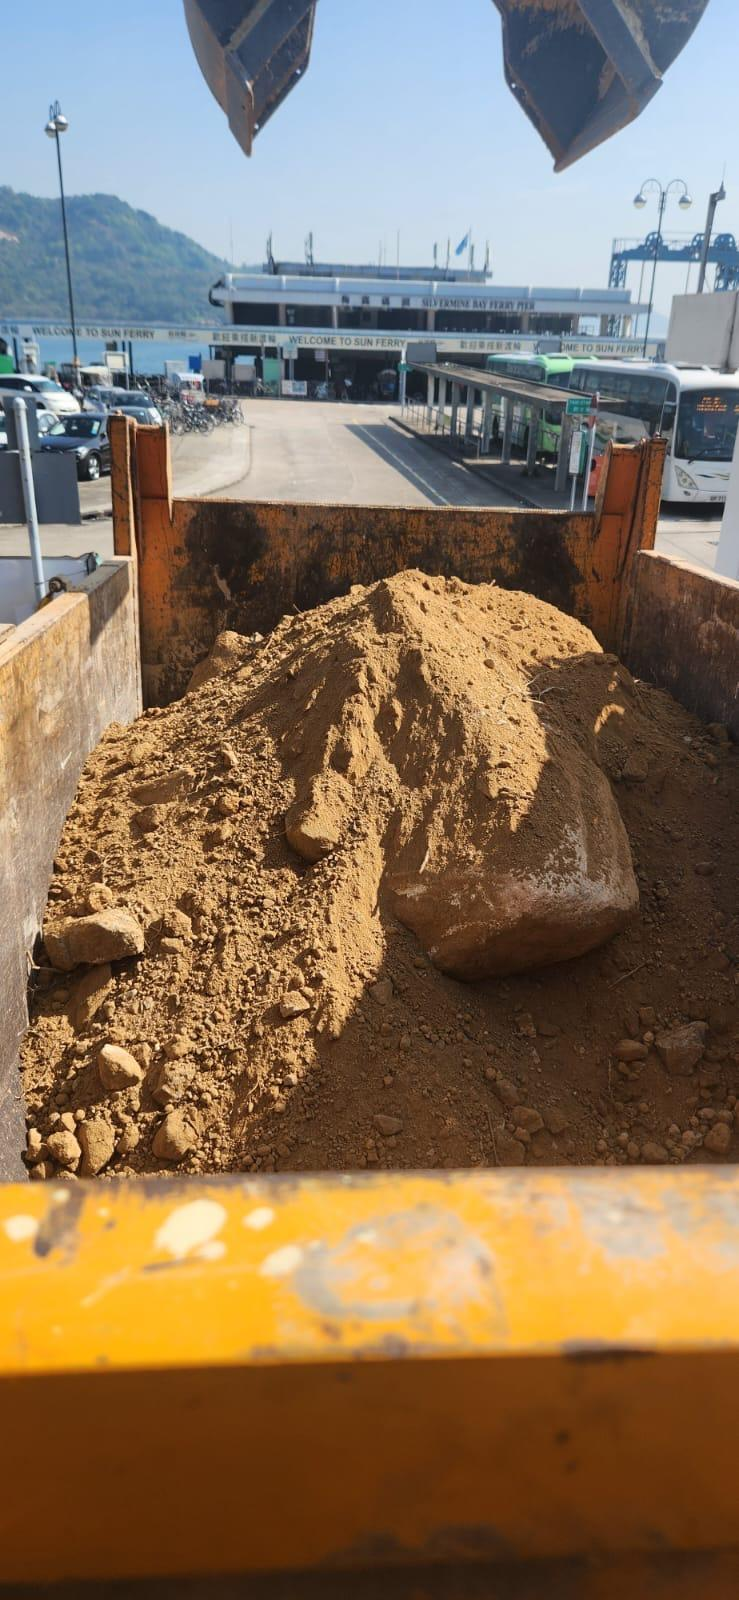dry: (24, 562, 733, 1172)
